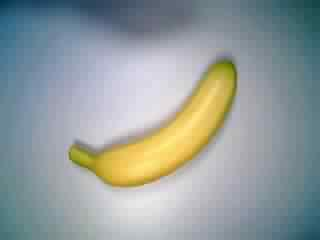banana: (61, 57, 241, 193)
